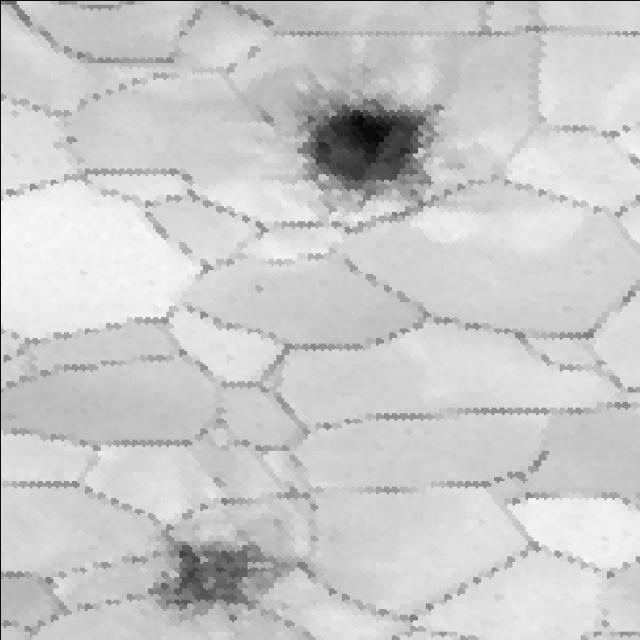good_void: (276, 74, 455, 223), (139, 523, 318, 634), (253, 104, 276, 131), (51, 131, 80, 149), (244, 281, 266, 293)
